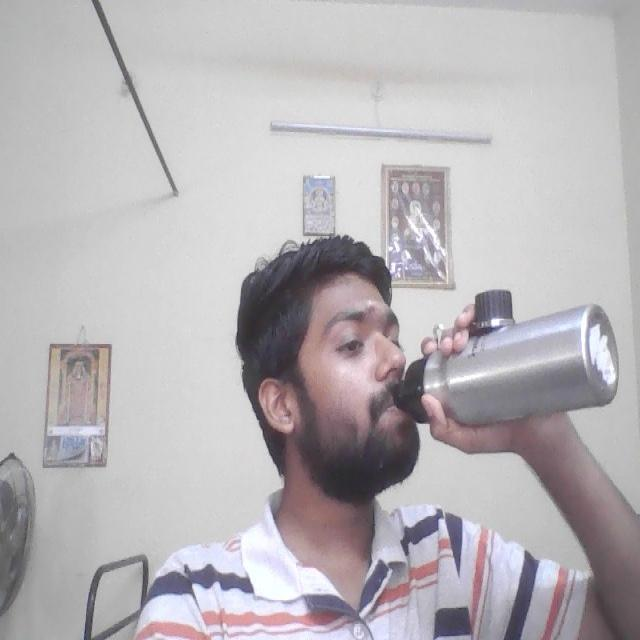Drinking: (393, 285, 619, 430)
